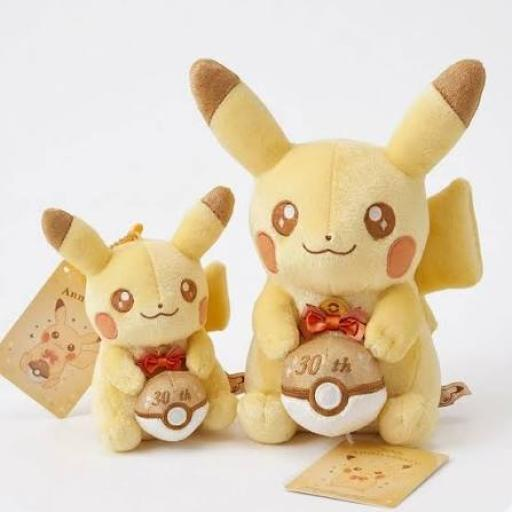Pikachu: (190, 57, 486, 446), (42, 186, 240, 450)
